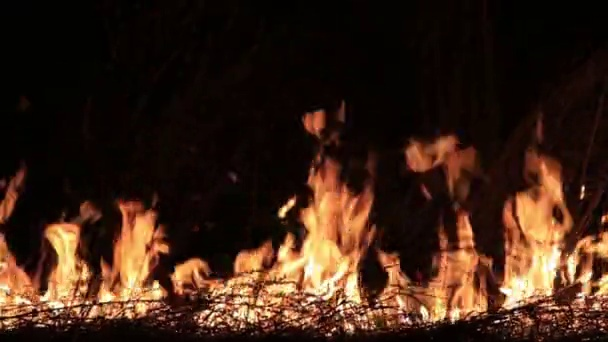fire: (201, 158, 377, 331), (505, 168, 569, 308), (93, 205, 166, 320), (419, 220, 494, 324), (404, 135, 485, 207), (1, 174, 38, 326), (38, 222, 86, 318), (372, 253, 409, 328), (569, 235, 608, 299), (172, 260, 202, 292)
